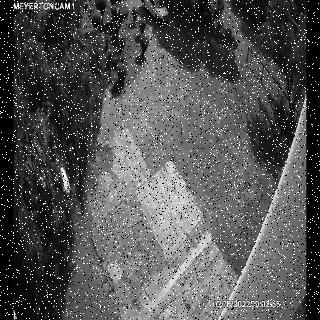car: (140, 0, 168, 25)
